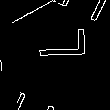L_W: (26, 39, 84, 71)
